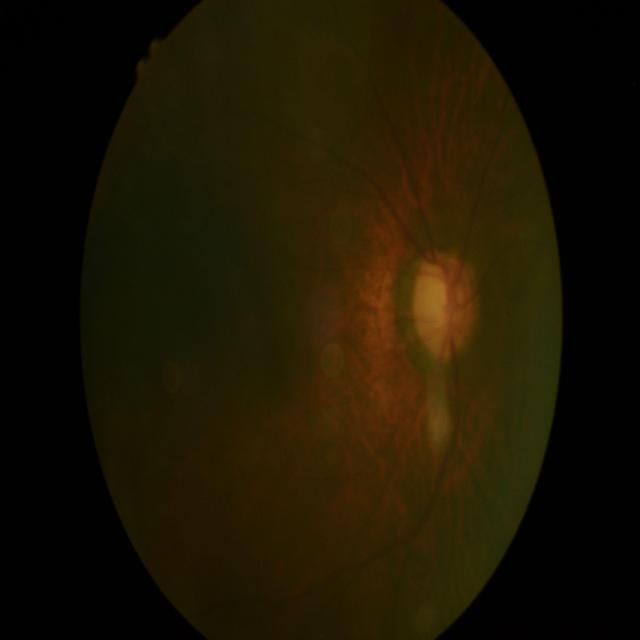cup: (421, 264, 456, 346)
disk: (412, 251, 470, 359)
